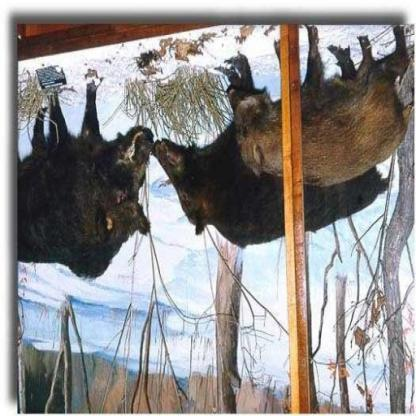boar: (151, 74, 409, 306), (22, 53, 161, 315), (217, 32, 415, 209)
